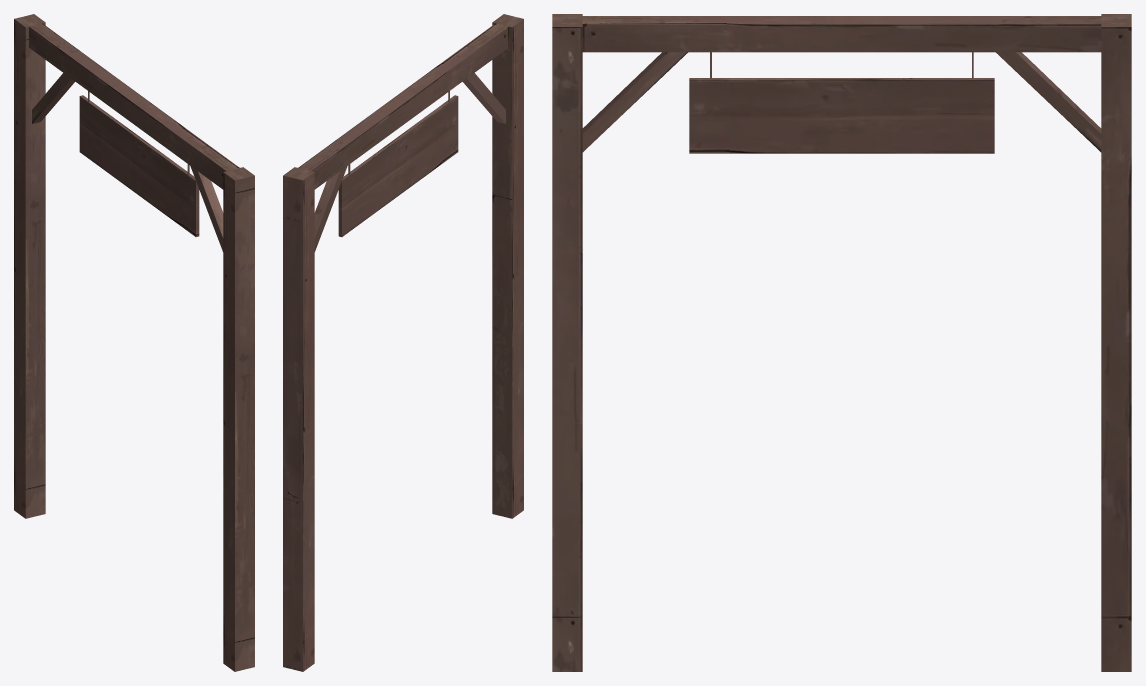
3 renders of one model, left to right at view 1: azimuth 30°, elevation 25°; view 2: azimuth 150°, elevation 25°; view 3: azimuth 270°, elevation 25°, orthographic. The views are drawn at different scales.
Visible parts, largest first — view 1: body0_model0_lod0_mesh0; view 2: body0_model0_lod0_mesh0; view 3: body0_model0_lod0_mesh0.
Part boxes in pixels (x1,y1,x2,y2): body0_model0_lod0_mesh0: (14,14,254,671); body0_model0_lod0_mesh0: (283,14,523,671); body0_model0_lod0_mesh0: (552,14,1131,671).
Size of the model in its own units: 12 by 280 by 228.
1 material, 1 textured.
